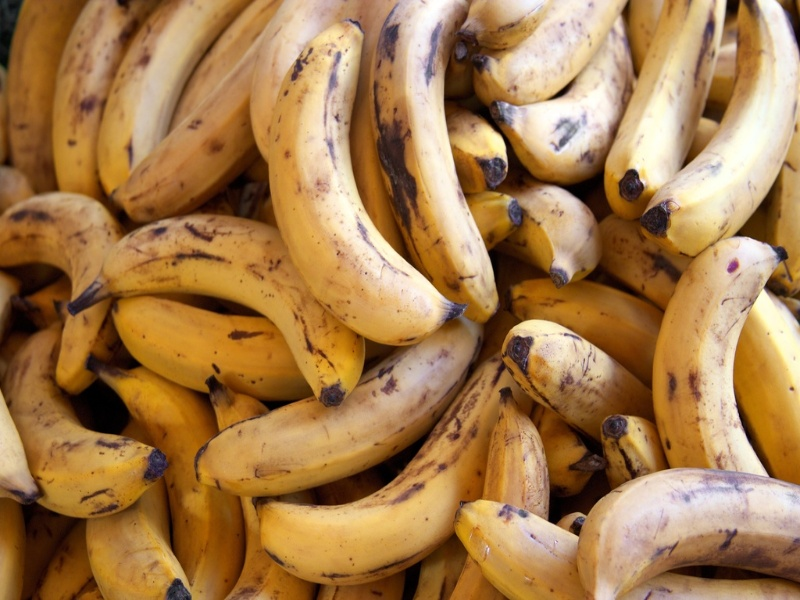banana: (269, 18, 457, 351), (71, 214, 363, 414), (243, 383, 536, 572), (198, 329, 486, 495), (1, 319, 177, 538), (650, 3, 797, 243), (657, 227, 782, 486), (572, 464, 800, 597), (467, 7, 624, 176), (494, 313, 653, 436)
